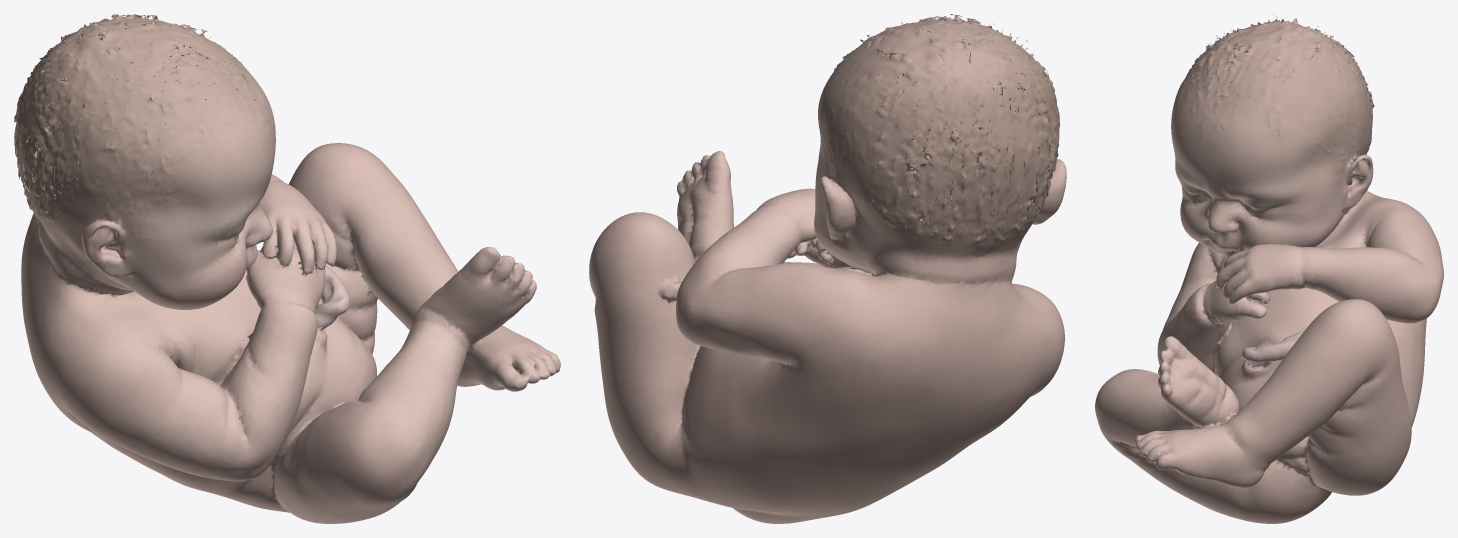
The model's file is semaine-40.glb.
The picture shows the model from 3 angles, left to right: view 1: azimuth 30°, elevation 25°; view 2: azimuth 150°, elevation 25°; view 3: azimuth 270°, elevation 25°; orthographic projection. The views are drawn at different scales.
Bounding box in the file's own units: 1.84 × 2 × 1.51.
